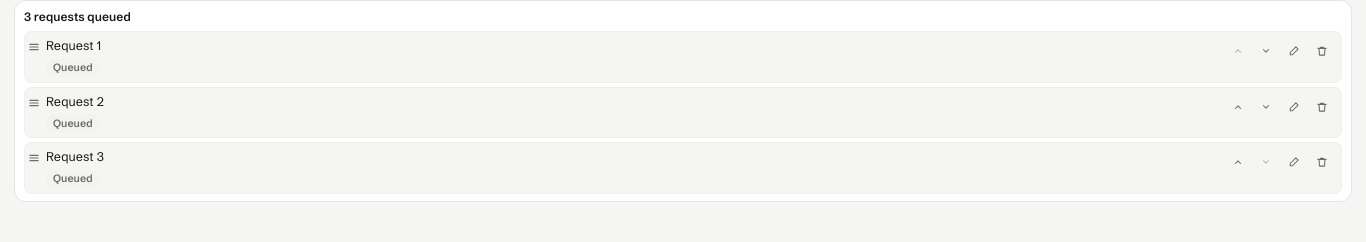
QueuedRequests › a request that already started cannot be removed: the reason is translated
The image size is (1366, 242).
Click the button named "Remove queued request 1".
click(1322, 51)  # box [1308,37,1336,65]
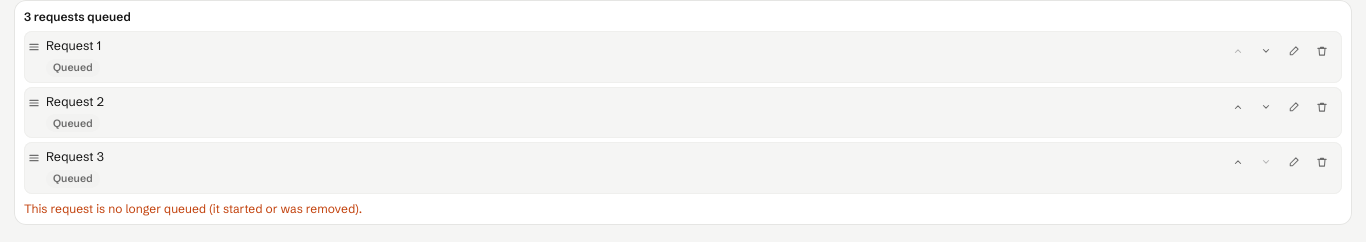
Expected: the message shows "This request is no longer queued", [24,201,362,216]
